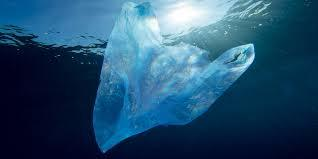Trash: (87, 6, 262, 145)
